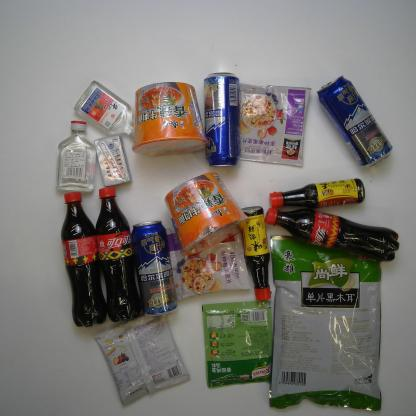Alcohol: (316, 74, 395, 170), (131, 218, 178, 318), (202, 70, 244, 169), (72, 78, 136, 138), (56, 119, 96, 193)
Dried Food: (268, 232, 386, 412)
Drink: (262, 206, 402, 263), (95, 185, 144, 324), (59, 190, 107, 329)
Instant Drink: (94, 315, 192, 410), (165, 225, 252, 301), (238, 81, 313, 169)
Instant Noodles: (164, 170, 251, 258), (130, 80, 209, 159)
Milk: (93, 134, 134, 188)
Seasoner: (200, 300, 275, 389), (239, 203, 274, 302), (267, 177, 367, 208)
